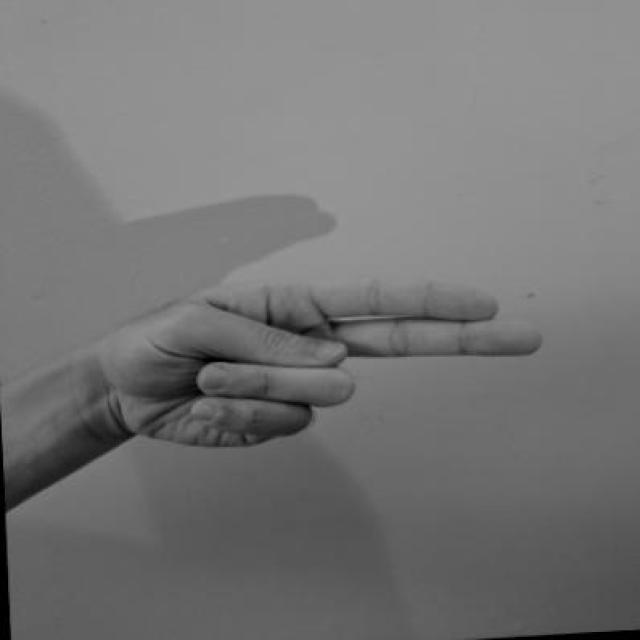H: (66, 253, 555, 496)
